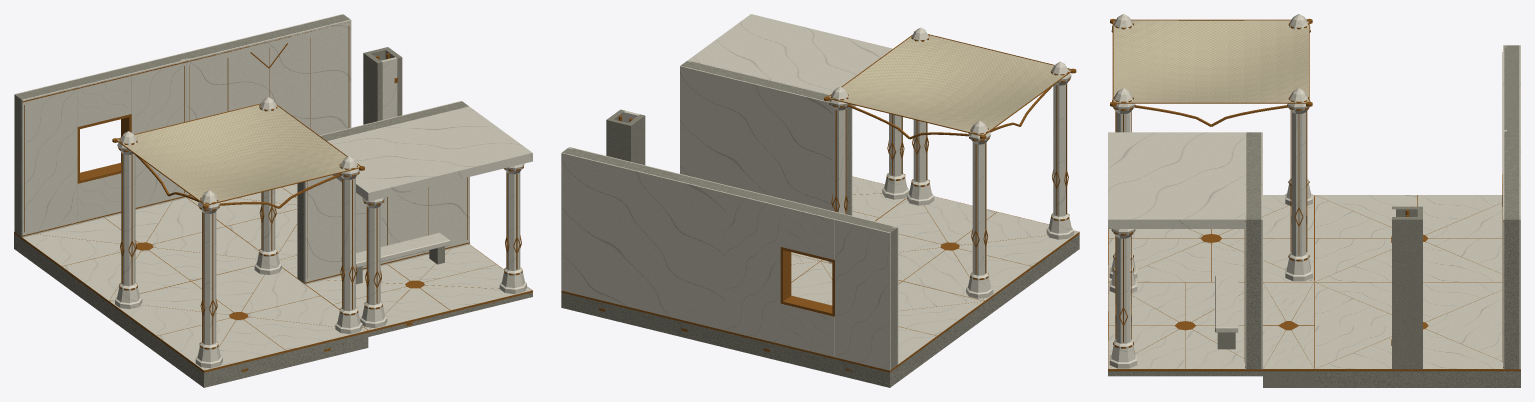
File: assembly.glb
The picture shows the model from 3 angles, left to right: view 1: azimuth 30°, elevation 25°; view 2: azimuth 150°, elevation 25°; view 3: azimuth 270°, elevation 25°; orthographic projection. The views are drawn at different scales.
Visible parts, largest first — view 1: Taut woven removable canopy with shallow sag, Replaceable marble facing panel.009, Portico stone shade lintel, Replaceable marble facing panel.011, Replaceable marble facing panel, Replaceable marble facing panel.002, Stone floor substrate, Marble pier stepped octagonal facing, Marble pier stepped octagonal facing.001, Marble pier stepped octagonal facing.002, Replaceable marble facing panel.006, Marble pier stepped octagonal facing.004 (+42 smaller); view 2: Replaceable marble facing panel.008, Replaceable marble facing panel.010, Taut woven removable canopy with shallow sag, Portico stone shade lintel, Replaceable marble facing panel.001, Replaceable marble facing panel.003, Stone floor substrate.001, Marble pier stepped octagonal facing.001, Marble pier stepped octagonal facing, Stone floor substrate.002, Replaceable marble facing panel.007, Replaceable marble facing panel.005 (+28 smaller); view 3: Taut woven removable canopy with shallow sag, Portico stone shade lintel, Utility chase stone side.001, Bearing masonry wall segment.004, Bearing masonry wall segment.005, Stone floor substrate.002, Marble pier stepped octagonal facing.003, Marble pier stepped octagonal facing.004, Replaceable flush radial marble floor sector.022, Replaceable flush radial marble floor sector.015, Replaceable flush radial marble floor sector.014, Replaceable flush radial marble floor sector.023 (+53 smaller).
Part boxes in pixels (x1,y1,x2,y2): Taut woven removable canopy with shallow sag: [117, 104, 359, 204]; Replaceable marble facing panel.009: [187, 20, 351, 196]; Portico stone shade lintel: [328, 107, 532, 201]; Replaceable marble facing panel.011: [305, 106, 469, 284]; Replaceable marble facing panel: [21, 86, 77, 237]; Replaceable marble facing panel.002: [131, 60, 186, 209]; Stone floor substrate: [109, 303, 368, 387]; Marble pier stepped octagonal facing: [195, 190, 222, 368]; Marble pier stepped octagonal facing.001: [115, 131, 142, 309]; Marble pier stepped octagonal facing.002: [335, 156, 362, 334]; Replaceable marble facing panel.006: [77, 73, 131, 126]; Marble pier stepped octagonal facing.004: [499, 150, 526, 293]; Replaceable marble facing panel.008: [561, 152, 725, 330]; Replaceable marble facing panel.010: [680, 65, 832, 210]; Taut woven removable canopy with shallow sag: [829, 35, 1070, 135]; Portico stone shade lintel: [688, 14, 892, 106]; Replaceable marble facing panel.001: [835, 219, 890, 370]; Replaceable marble facing panel.003: [725, 192, 780, 343]; Stone floor substrate.001: [725, 303, 984, 387]; Marble pier stepped octagonal facing.001: [966, 120, 993, 298]; Marble pier stepped octagonal facing: [1046, 61, 1073, 239]; Stone floor substrate.002: [561, 292, 725, 347]; Replaceable marble facing panel.007: [780, 206, 835, 259]; Replaceable marble facing panel.005: [780, 304, 834, 357]; Taut woven removable canopy with shallow sag: [1113, 20, 1308, 102]; Portico stone shade lintel: [1108, 132, 1244, 228]; Utility chase stone side.001: [1392, 217, 1422, 369]; Bearing masonry wall segment.004: [1504, 132, 1519, 369]; Bearing masonry wall segment.005: [1246, 132, 1261, 369]; Stone floor substrate.002: [1314, 371, 1520, 387]; Marble pier stepped octagonal facing.003: [1285, 88, 1312, 281]; Marble pier stepped octagonal facing.004: [1109, 212, 1137, 368]; Replaceable flush radial marble floor sector.022: [1314, 325, 1391, 368]; Replaceable flush radial marble floor sector.015: [1314, 195, 1391, 238]; Replaceable flush radial marble floor sector.014: [1314, 238, 1391, 281]; Replaceable flush radial marble floor sector.023: [1314, 282, 1391, 325].
Bounding box in the file's own units: 8 × 4.4 × 8.
29 materials, 29 textured.
